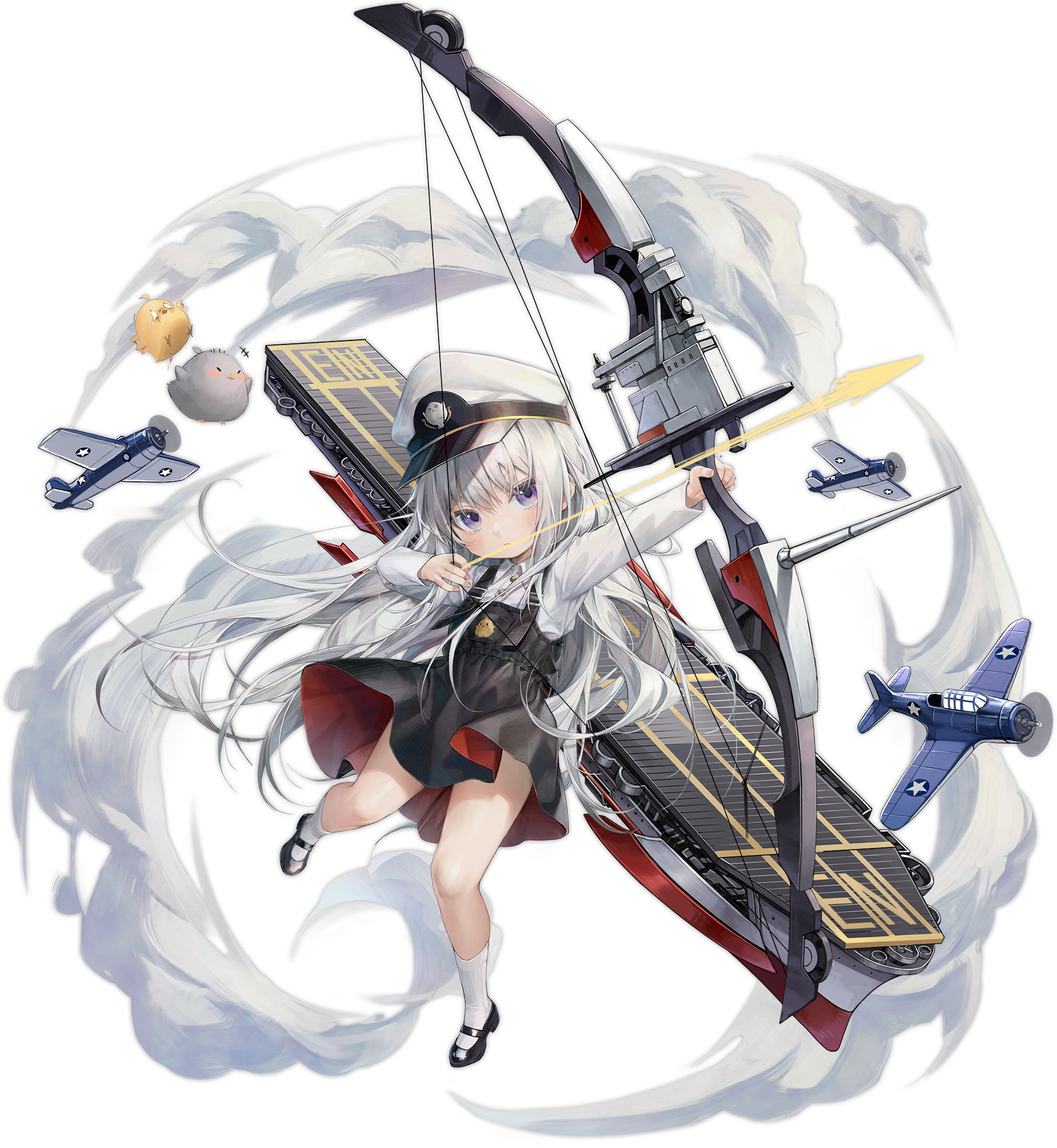person: (6, 16, 1022, 1145)
